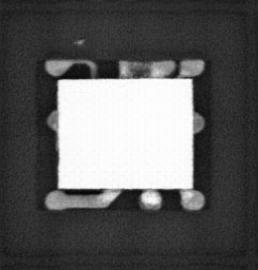DIE_INK: (73, 36, 85, 45)
